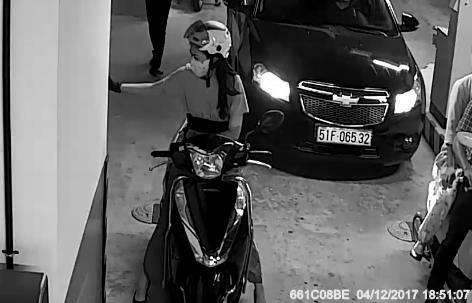License-plate: (306, 118, 399, 158)
